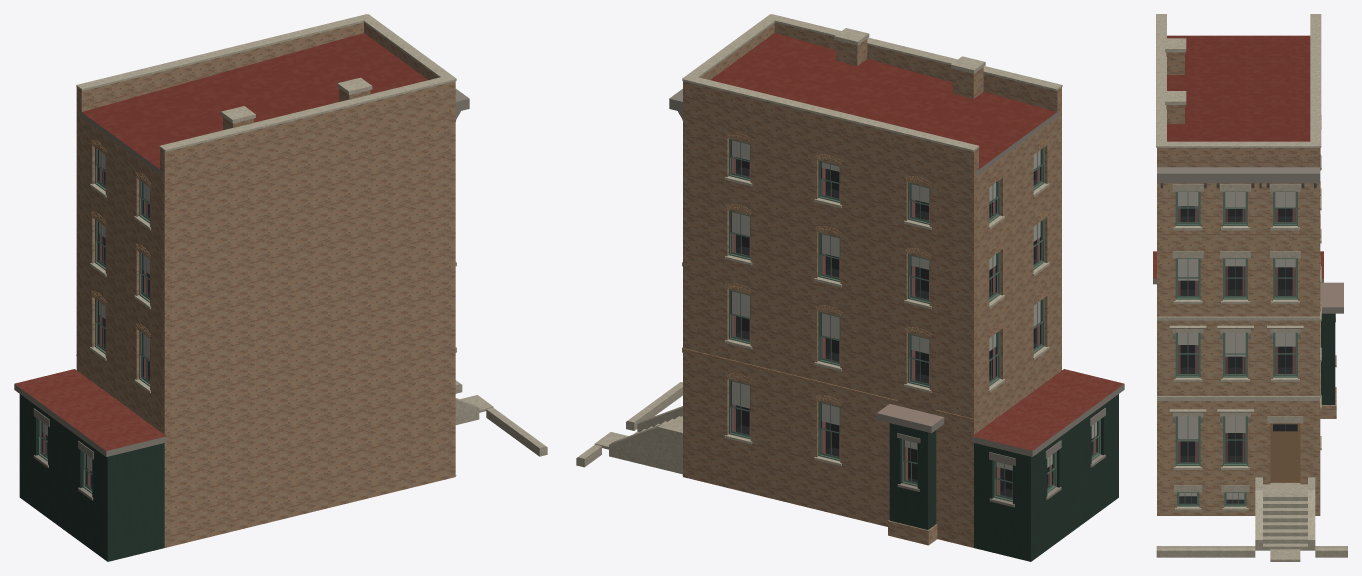
Rendered from house_1615_prairie__as_mapped_1904.glb.
3 views of the same model, side by side, from view 1: azimuth 30°, elevation 25°; view 2: azimuth 150°, elevation 25°; view 3: azimuth 270°, elevation 25° (orthographic). The views are drawn at different scales.
Visible parts, largest first — view 1: house_1615_prairie__as_mapped_1904; view 2: house_1615_prairie__as_mapped_1904; view 3: house_1615_prairie__as_mapped_1904.
Boxes of the visible parts, left/top/right/bottom form: house_1615_prairie__as_mapped_1904: left=14, top=14, right=547, bottom=561; house_1615_prairie__as_mapped_1904: left=576, top=14, right=1124, bottom=561; house_1615_prairie__as_mapped_1904: left=1153, top=14, right=1347, bottom=561.
Bounding box in the file's own units: 19.36 × 16.77 × 7.8.
22 materials, 12 textured.
